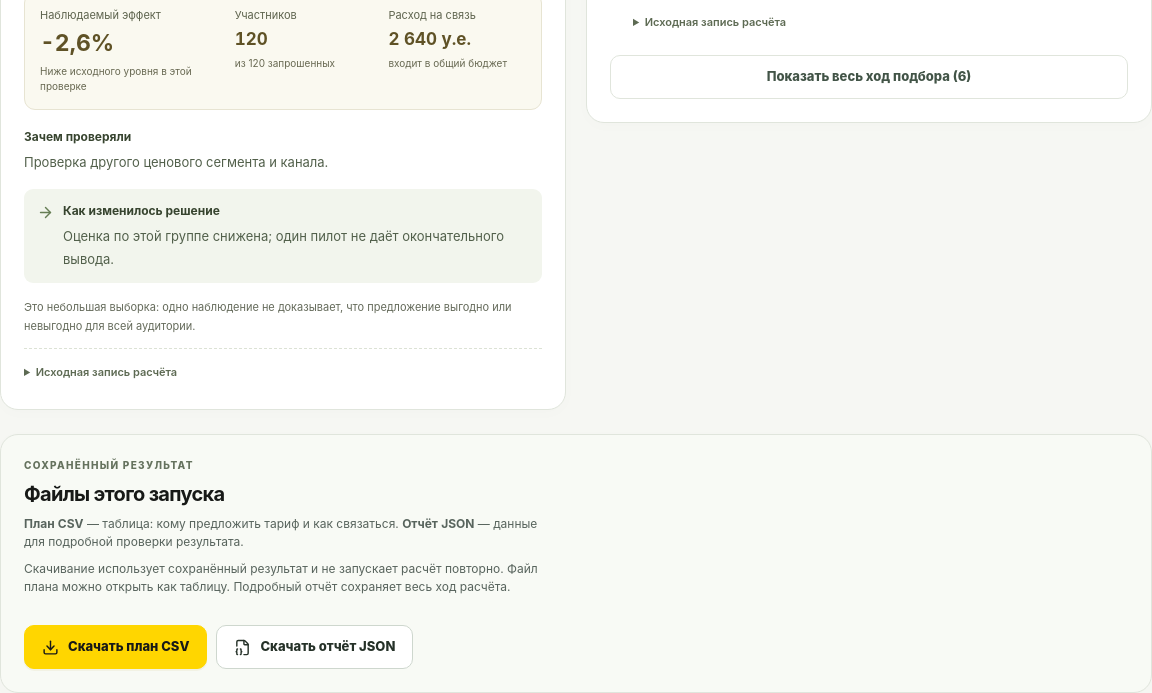
Scenario: retries the failed export using the same run and format
(page scrolled)
Click the button "Скачать отчёт JSON" at (315, 647), box [216,625,413,669]
(page scrolled)
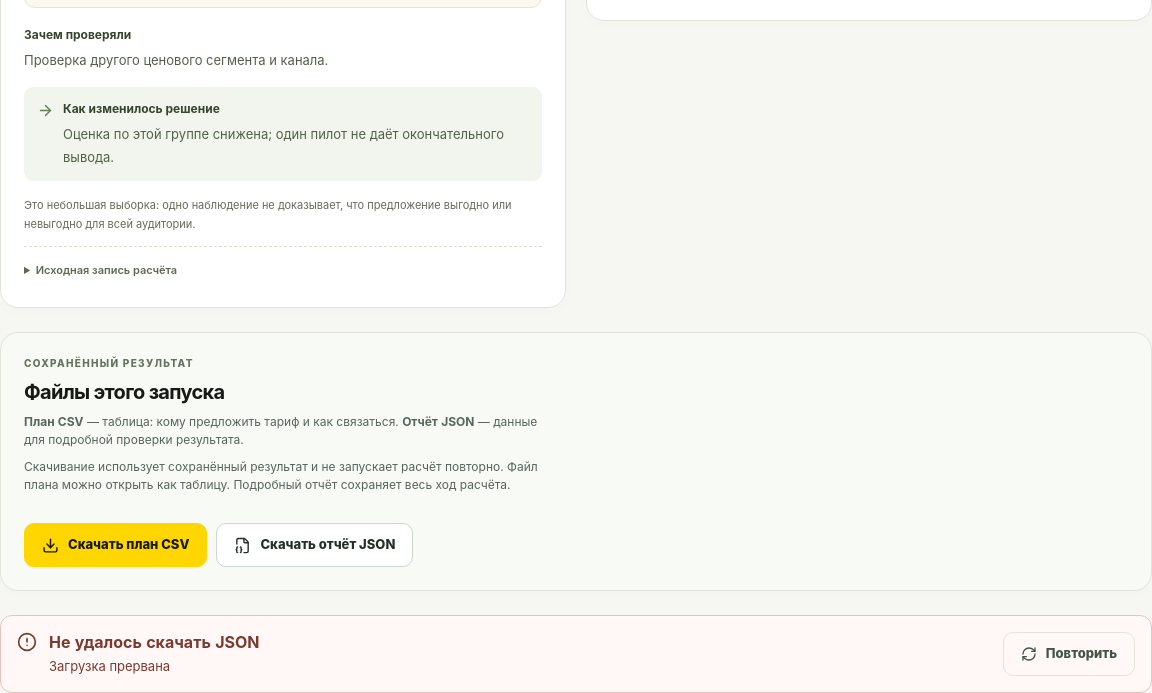
Click the button "Повторить" at (1069, 654), box [1003,632,1135,676]
(page scrolled)
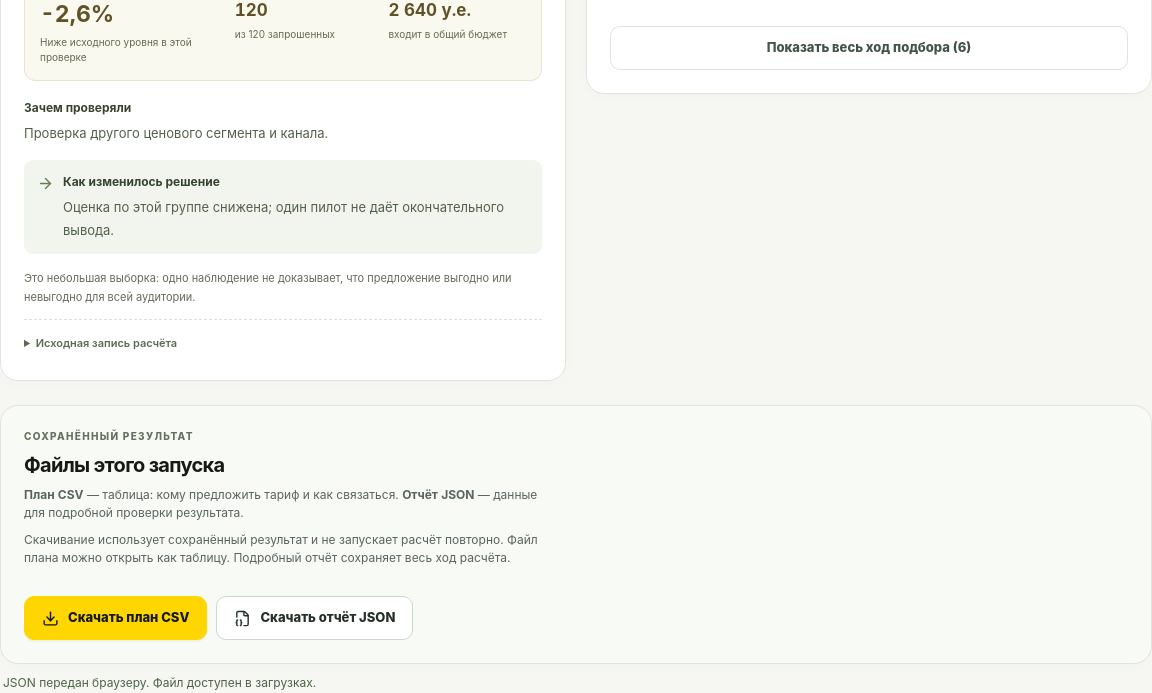
Expected: the text "JSON передан браузеру. Файл доступен в загрузках." is shown, [3,675,316,690]
